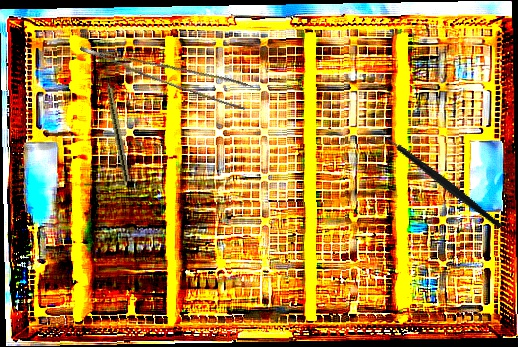Chopper: (370, 101, 504, 261)
Handpiece: (101, 65, 132, 183)
Tissue Forceps: (79, 18, 255, 119)
